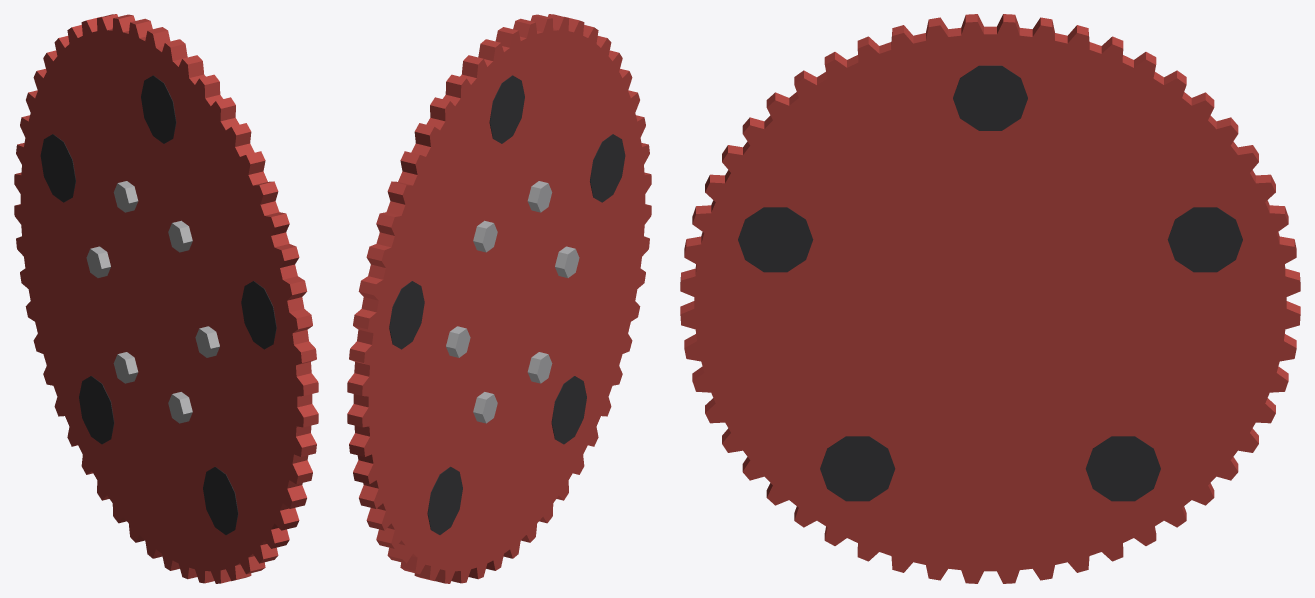
File: rear_52.glb
3 renders of one model, left to right at view 1: azimuth 30°, elevation 25°; view 2: azimuth 150°, elevation 25°; view 3: azimuth 270°, elevation 25°, orthographic. The views are drawn at different scales.
Visible parts, largest first — view 1: lod0; view 2: lod0; view 3: lod0.
Part boxes in pixels (x1,y1,x2,y2): lod0: [14, 14, 318, 583]; lod0: [347, 14, 651, 583]; lod0: [680, 14, 1300, 583].
Size of what is drawn, in the model's own units: 0.0137 by 0.2657 by 0.2657.
